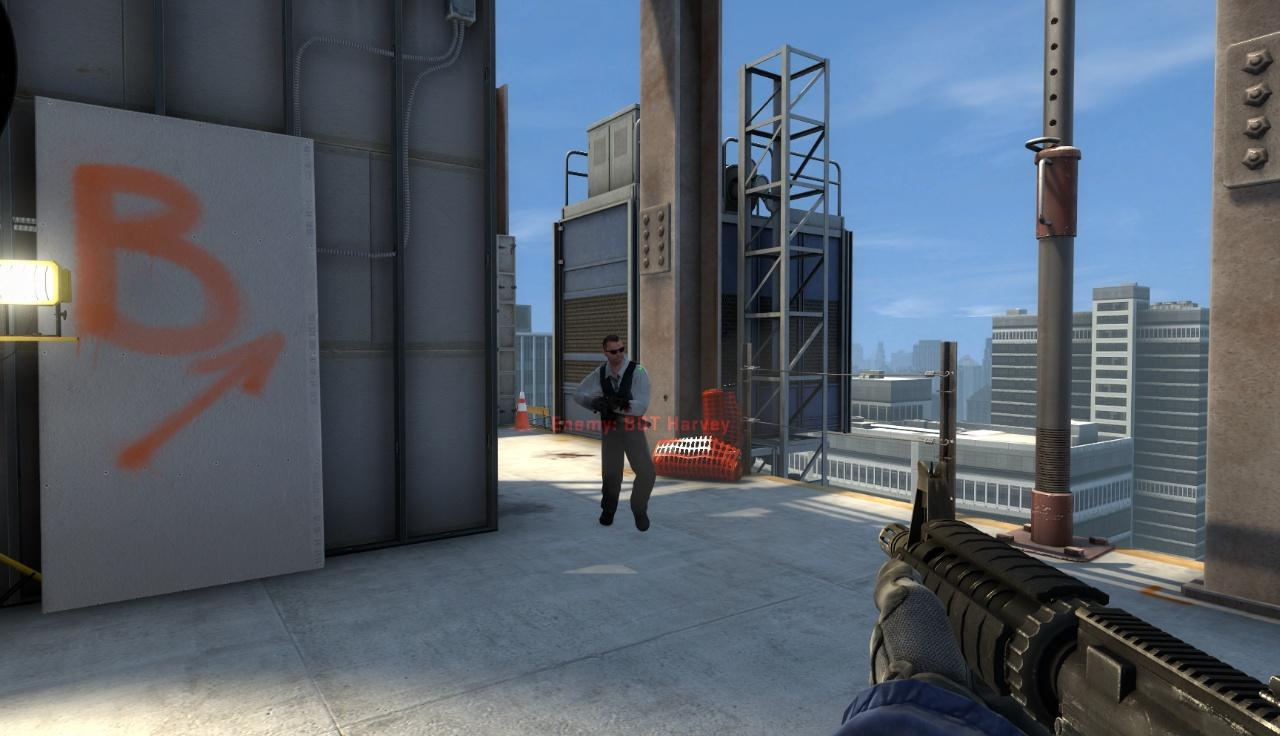rifle: (860, 490, 1280, 734)
tt: (572, 333, 653, 529)
tthead: (603, 335, 624, 366)
